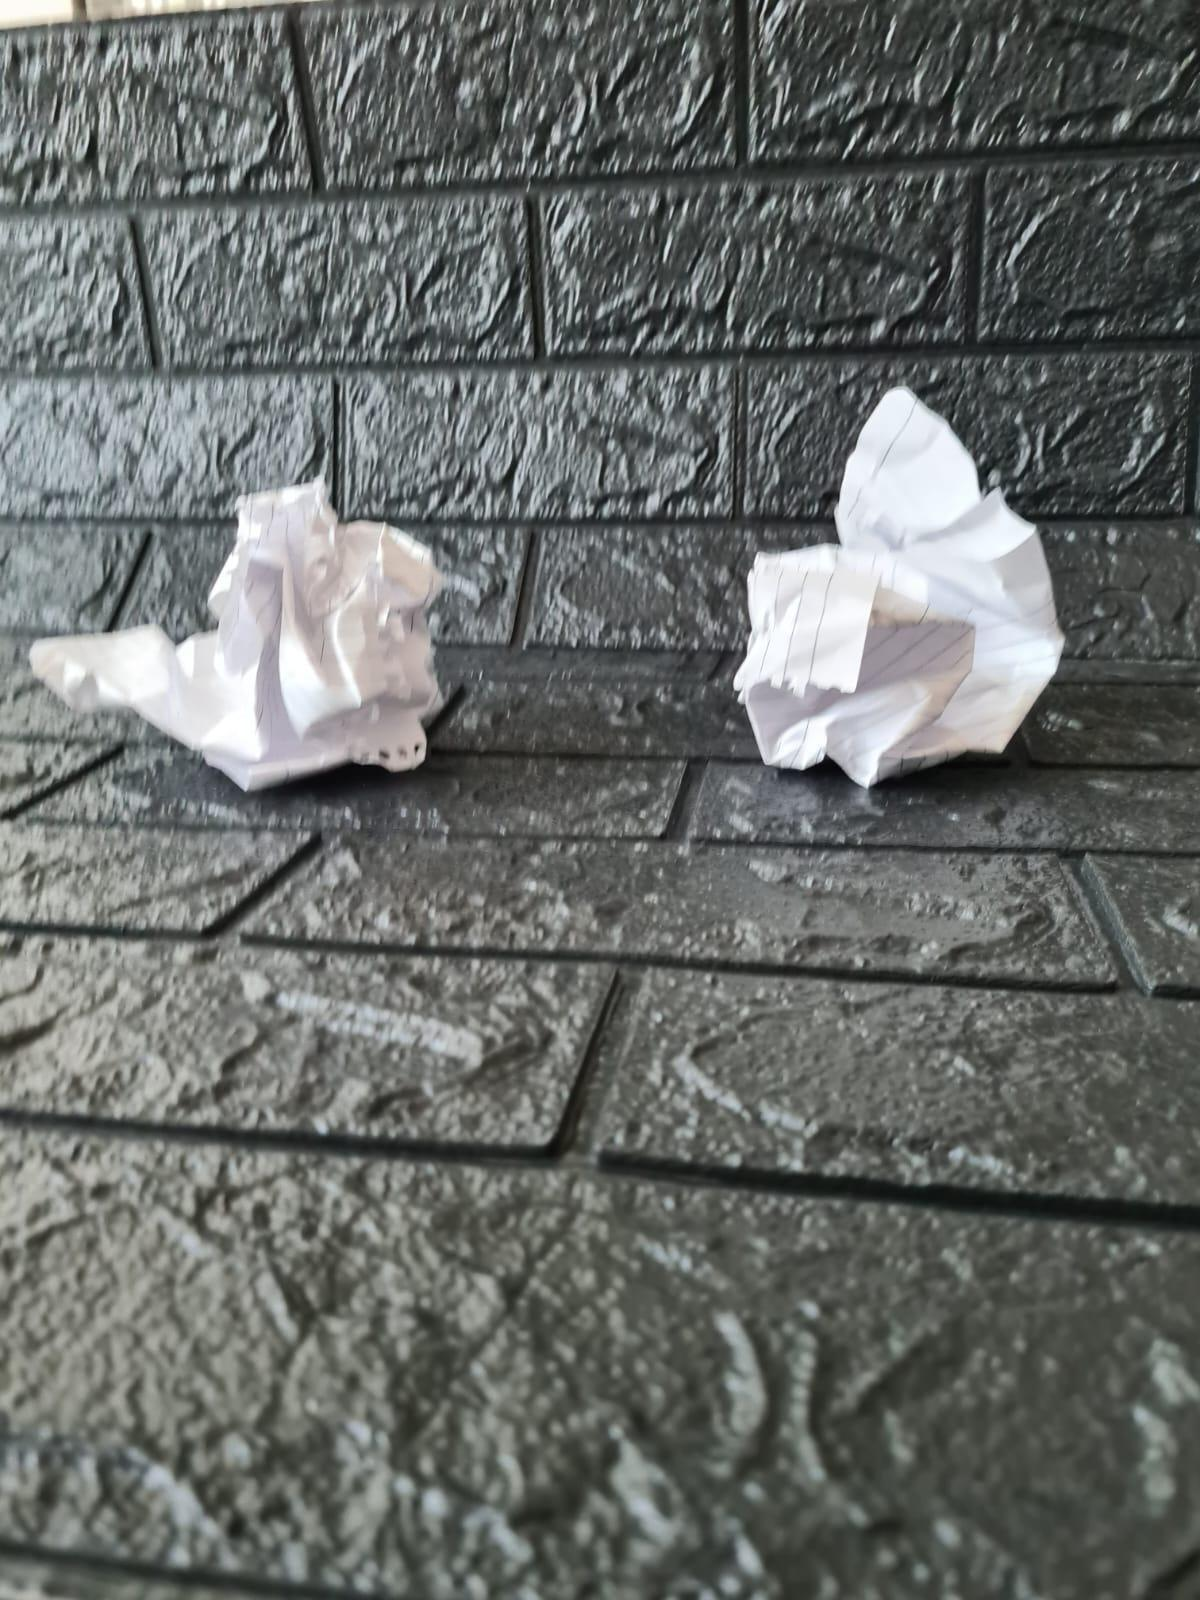Paper: (47, 484, 475, 801), (717, 401, 1078, 767)
